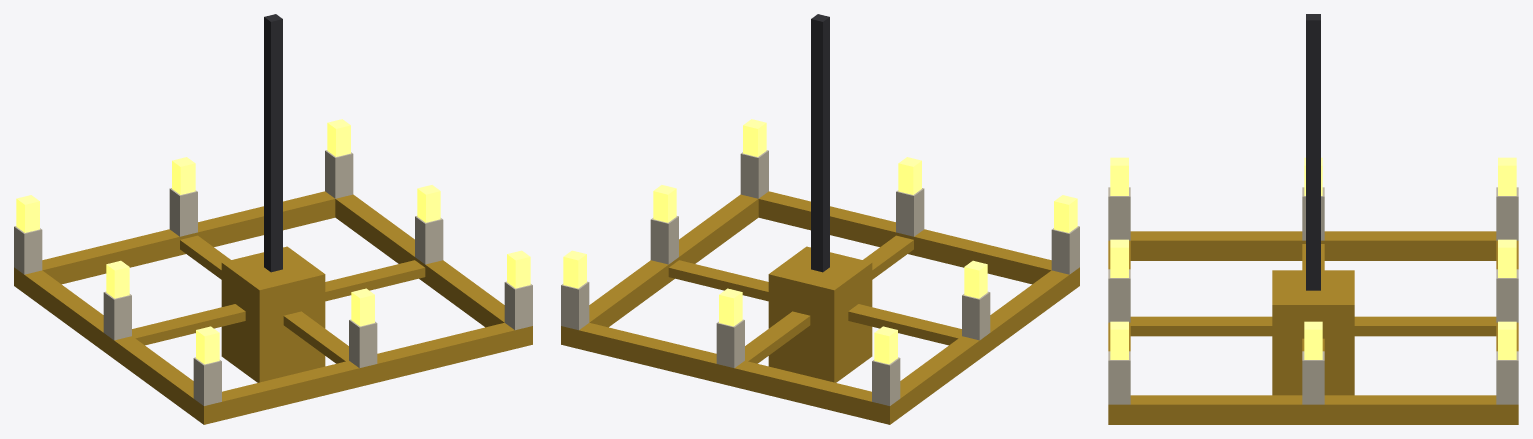
Rendered from ld-chandelier.glb.
3 renders of one model, left to right at view 1: azimuth 30°, elevation 25°; view 2: azimuth 150°, elevation 25°; view 3: azimuth 270°, elevation 25°, orthographic. The views are drawn at different scales.
Visible parts, largest first — view 1: box-prop; view 2: box-prop; view 3: box-prop.
Boxes of the visible parts, box(x1,y1,x2,y2) form: box-prop: box(14, 14, 532, 424); box-prop: box(561, 14, 1079, 424); box-prop: box(1108, 14, 1518, 424).
Size of the model in its own units: 2.2 by 2.2 by 2.2.
